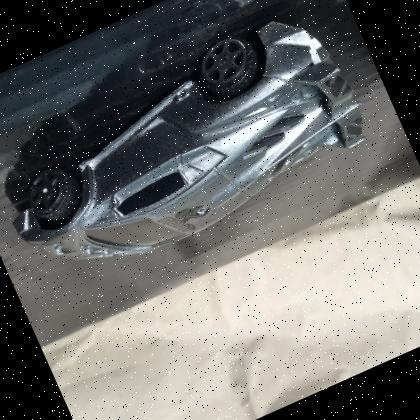Car: (13, 19, 364, 260)
